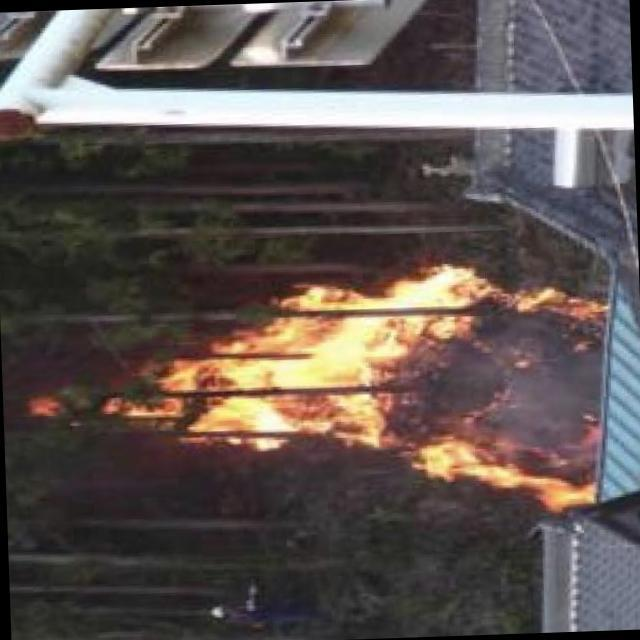Fire: (145, 260, 604, 530)
